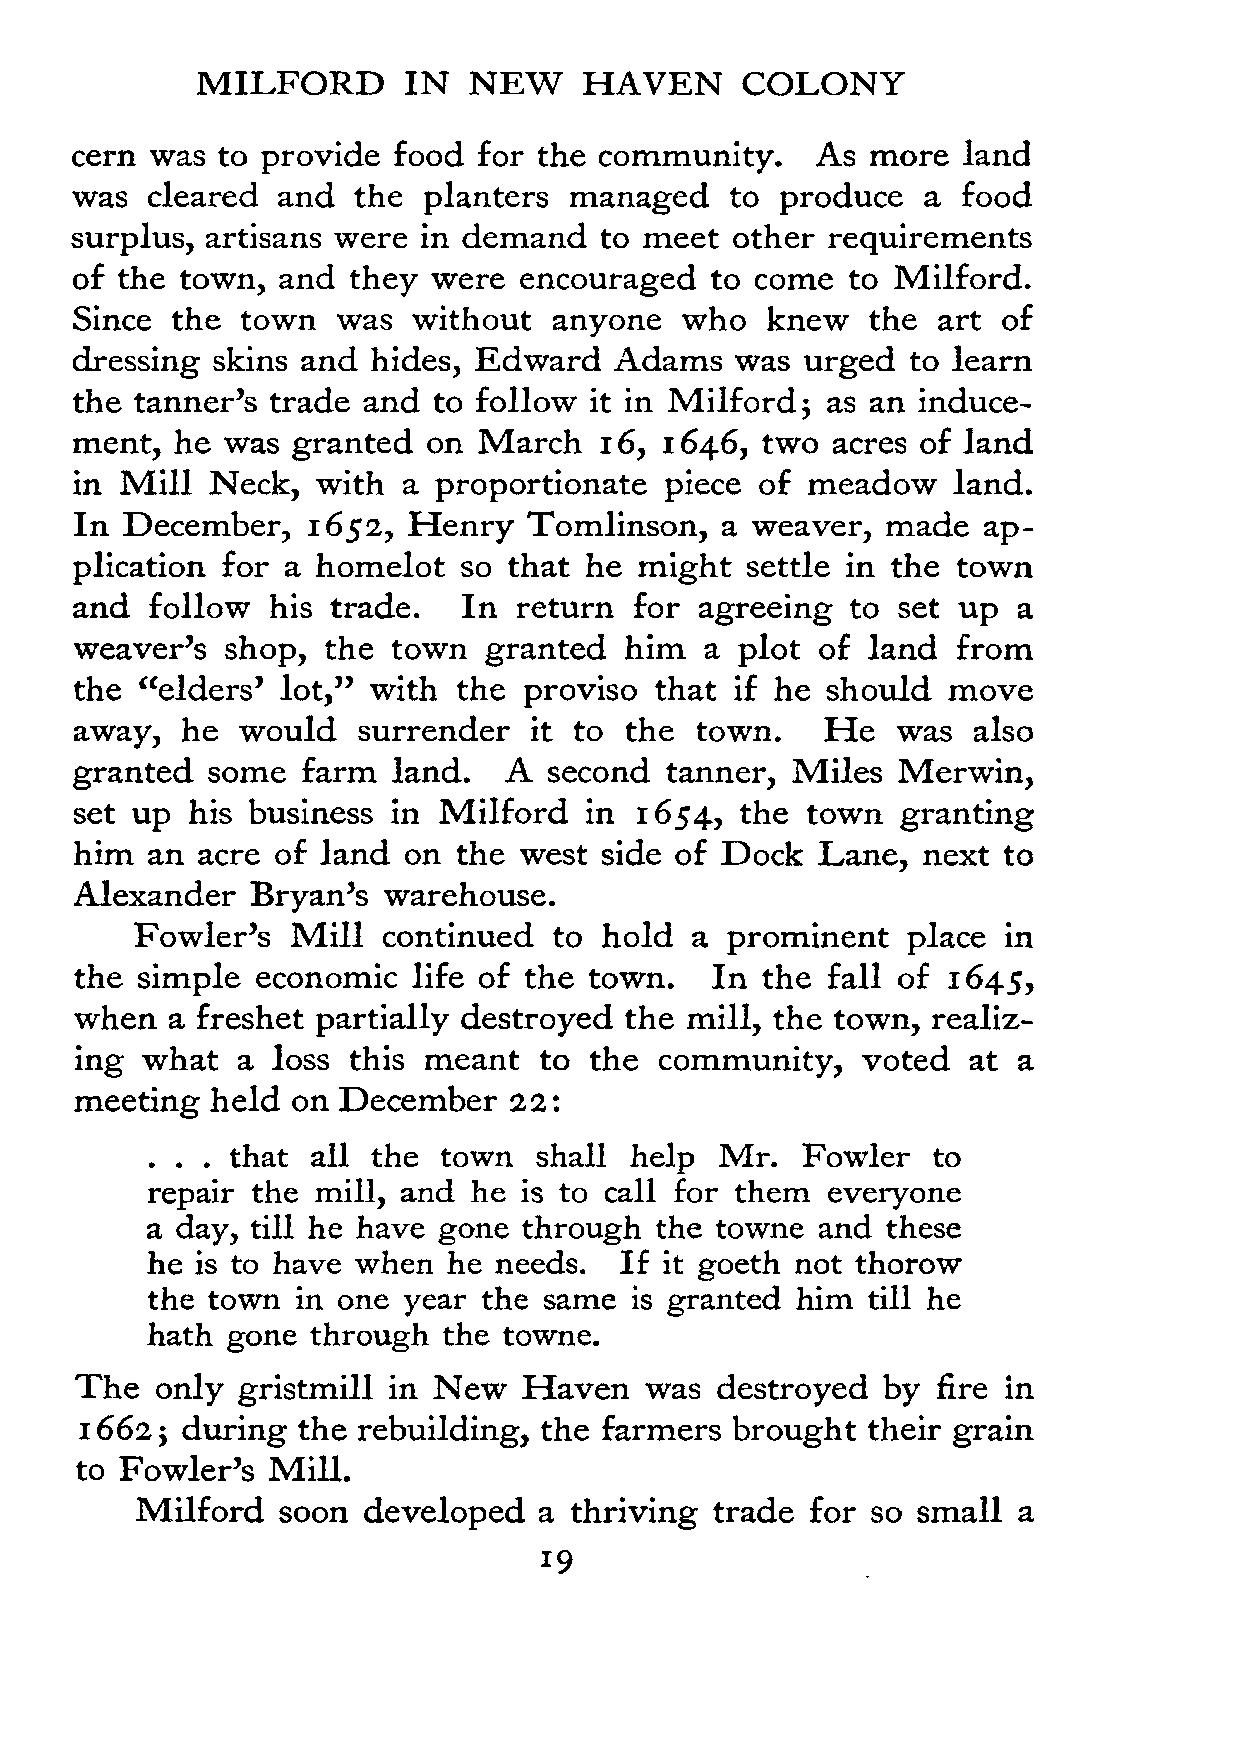chapter: (195, 60, 906, 98)
content: (67, 132, 1041, 1527)
content_pagenumber: (530, 1545, 576, 1577)
